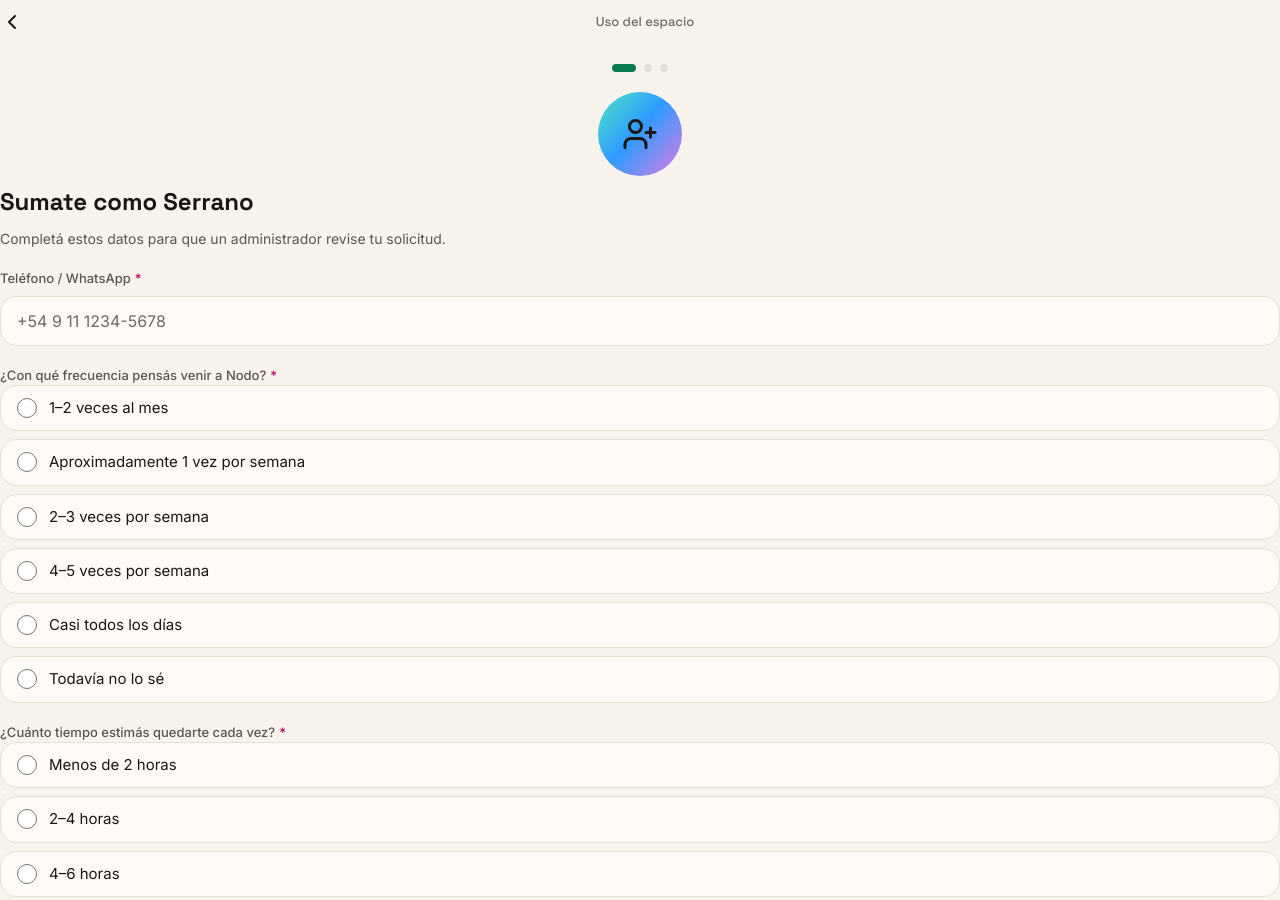
SolicitarForm — multi-step (ZER-109) › advances to step 2 and shows the reference aporte guide before attitude
Step 1. Type "1122334455" into the field labelled "Teléfono / WhatsApp" → {"x": 640, "y": 320}, box top-left (0, 296), bottom-right (1279, 346)
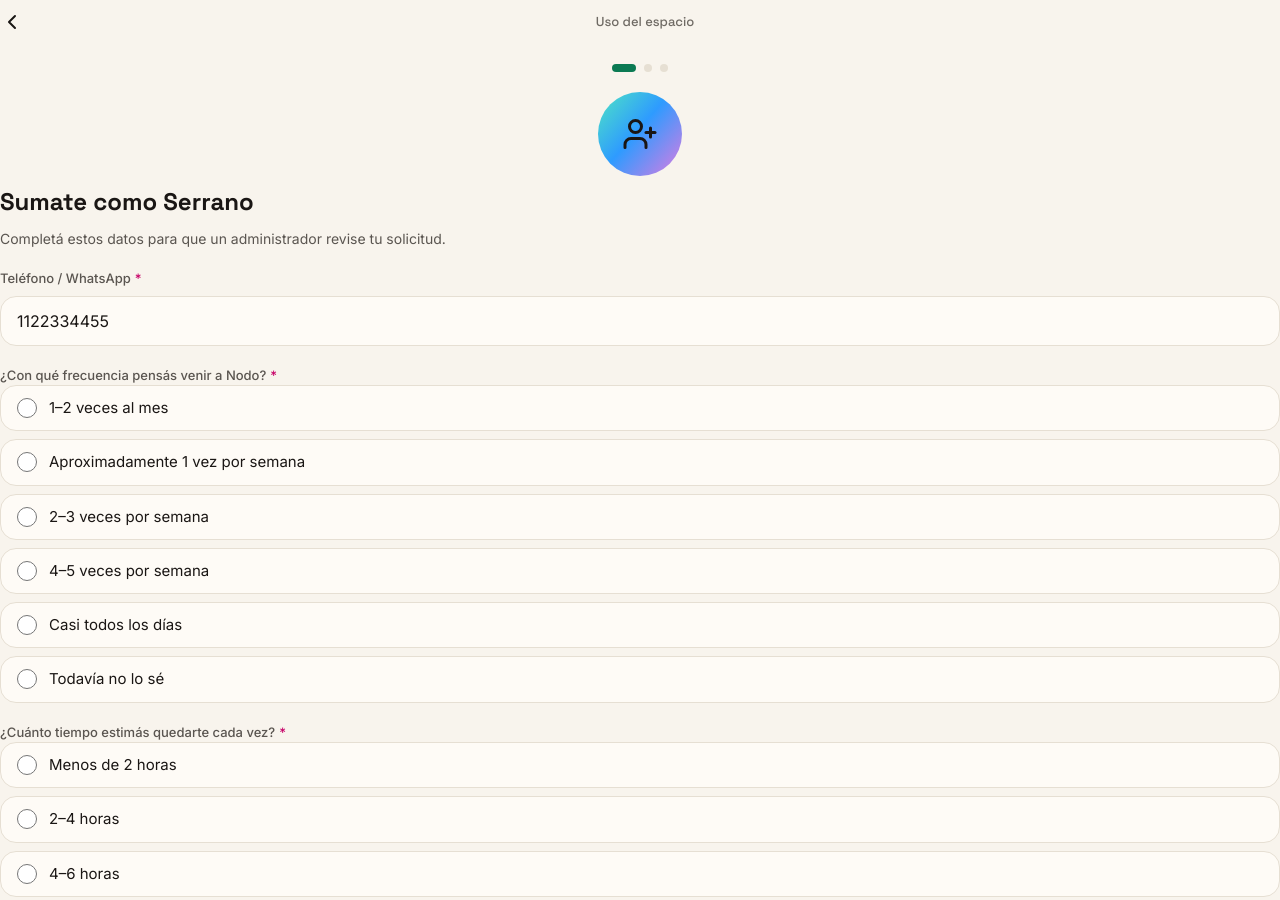
Step 2. Click the radio button labelled "Aproximadamente 1 vez por semana" → {"x": 27, "y": 462}, box top-left (17, 452), bottom-right (37, 472)
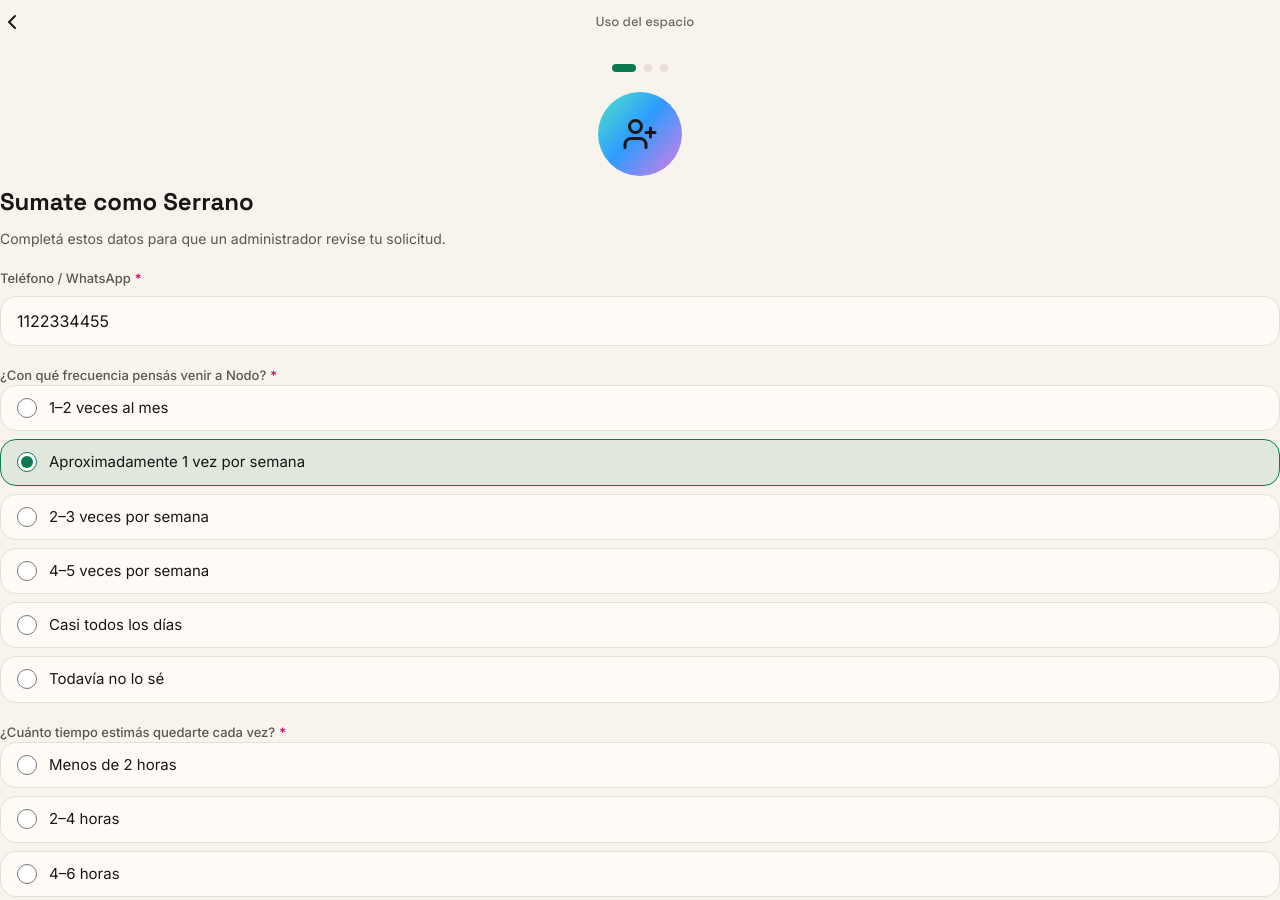
Step 3. Click the radio button labelled "2–4 horas" → {"x": 27, "y": 819}, box top-left (17, 809), bottom-right (37, 829)
(page scrolled)
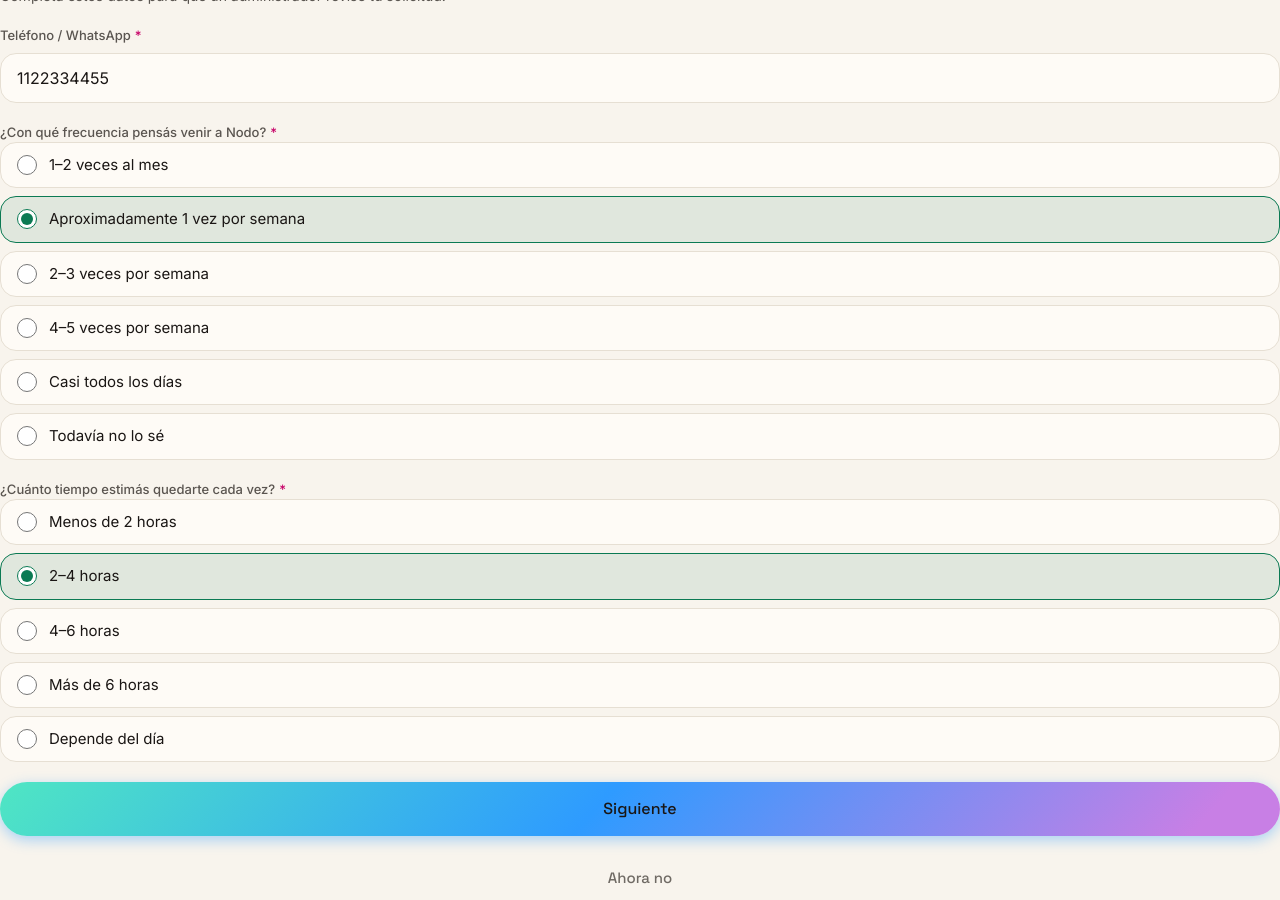
Step 4. Click the button "Siguiente" → {"x": 640, "y": 809}, box top-left (0, 782), bottom-right (1279, 836)
(page scrolled)
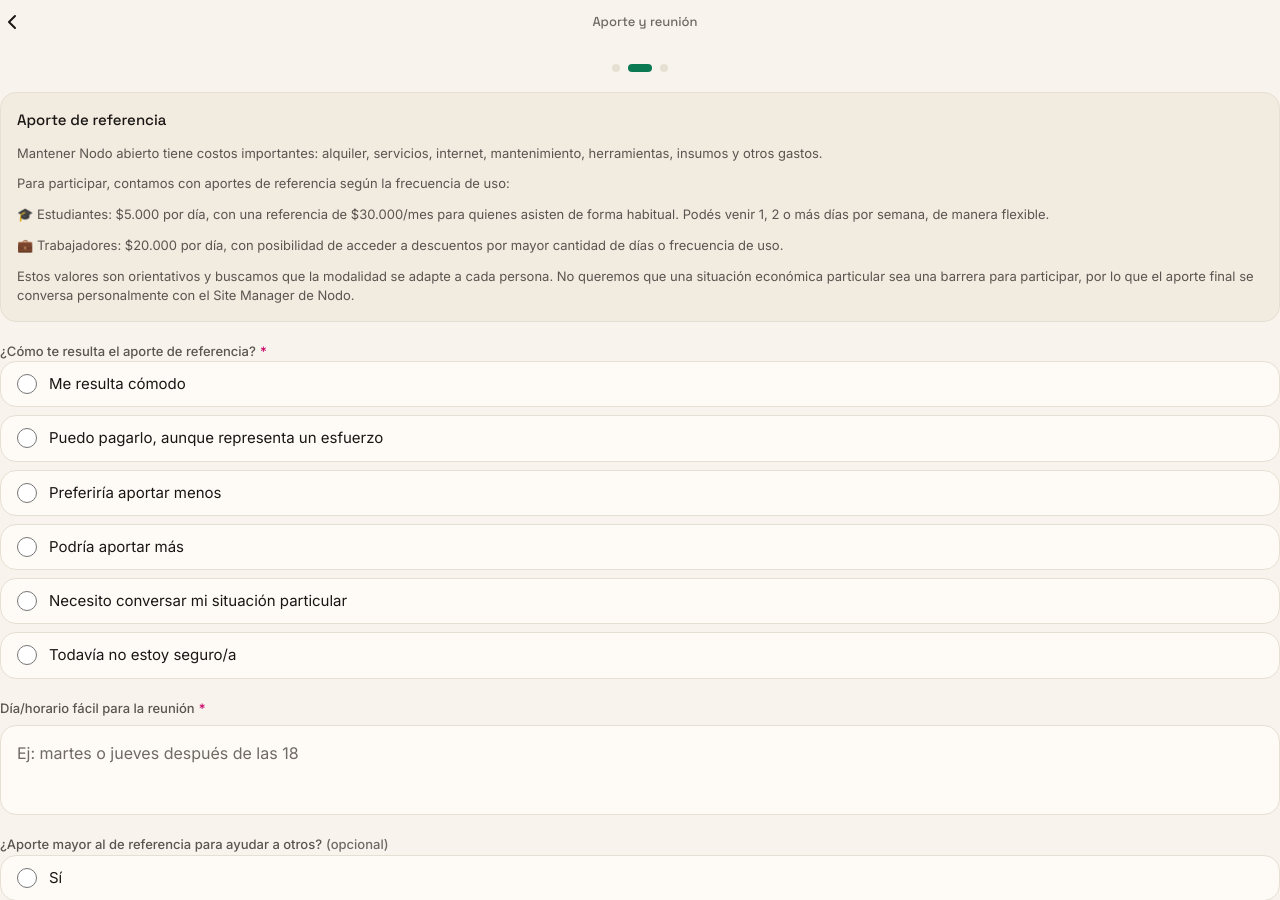
expect the text "Aporte de referencia" is shown: met, box top-left (17, 110), bottom-right (166, 129)
expect the text "Mantener Nodo abierto tiene costos importantes: alquiler, servicios, internet, mantenimiento, herramientas, insumos y ot" is shown: met, box top-left (17, 144), bottom-right (823, 160)
expect the text "$5.000 por día" is shown: met, box top-left (17, 206), bottom-right (1049, 222)
